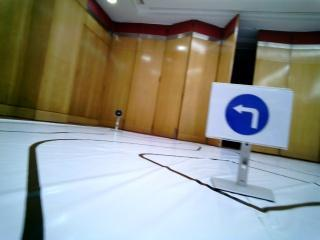left: (213, 86, 282, 150)
